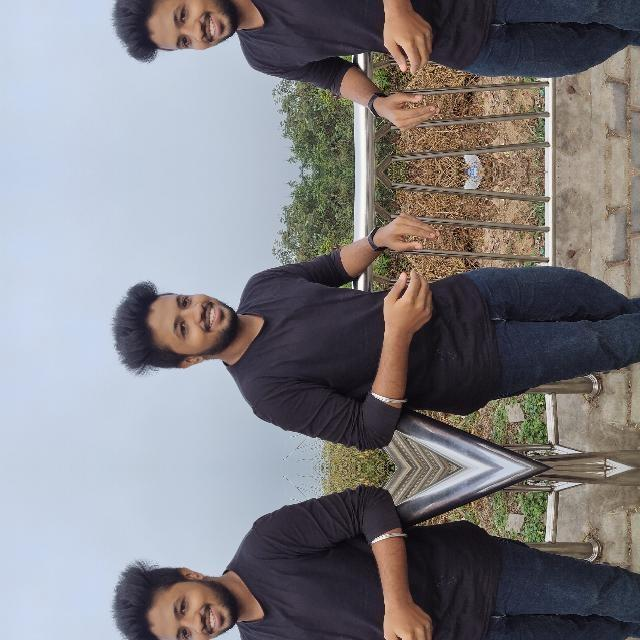person: (10, 252, 280, 640), (10, 274, 280, 640), (10, 0, 280, 90), (10, 0, 280, 68)
